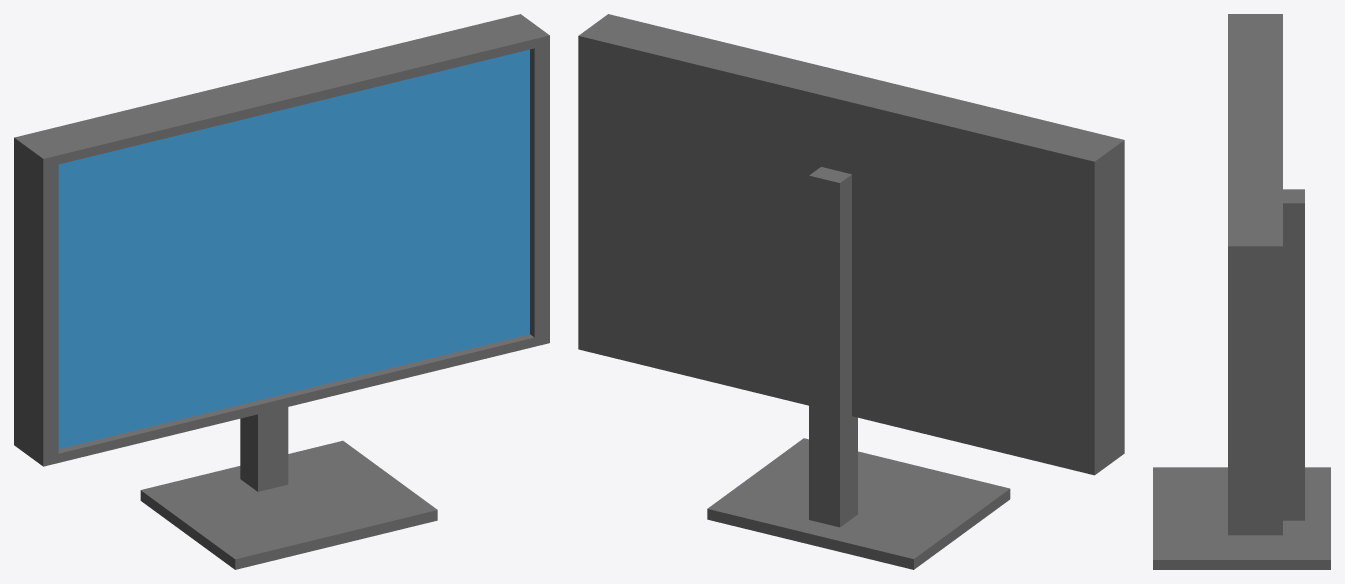
File: computer on.fbx
3 renders of one model, left to right at view 1: azimuth 30°, elevation 25°; view 2: azimuth 150°, elevation 25°; view 3: azimuth 270°, elevation 25°, orthographic. The views are drawn at different scales.
Visible parts, largest first — view 1: Cube.002, Cube, Cube.001; view 2: Cube.002, Cube, Cube.001; view 3: Cube.002, Cube, Cube.001.
Boxes of the visible parts, x1,y1,x2,y2 form: Cube.002: (14,14,549,466); Cube: (140,440,437,569); Cube.001: (240,407,288,491); Cube.002: (578,14,1124,475); Cube: (707,438,1010,569); Cube.001: (809,167,857,527); Cube.002: (1228,14,1282,535); Cube: (1153,467,1330,569); Cube.001: (1283,189,1304,520).
Bounding box in the file's own units: 200 × 158 × 64.75.
